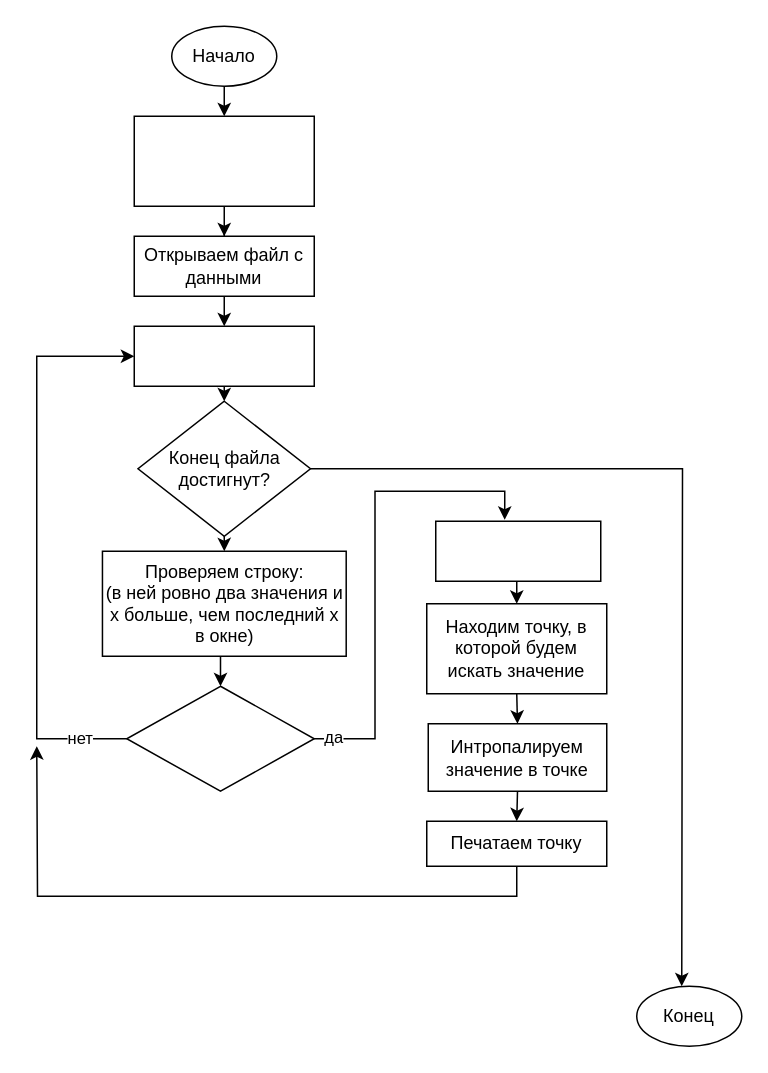
This 768x1073 diagram has some shape labels left out. Each missing label, with the centre of its shape:
"Добавляем строку в окно" goes at [517,550].
"Проверяем полученные данные (окно должно быть чётным)" goes at [223,160].
"Пытаемся считать новую строку" goes at [223,355].
"Строка корректна?" goes at [219,738].
